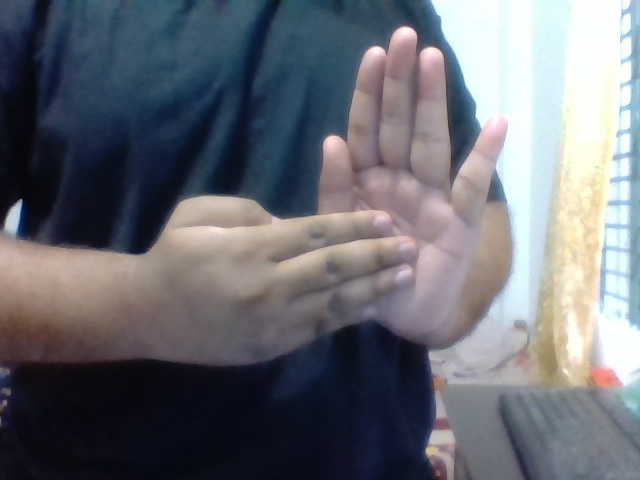H: (159, 14, 510, 375)
